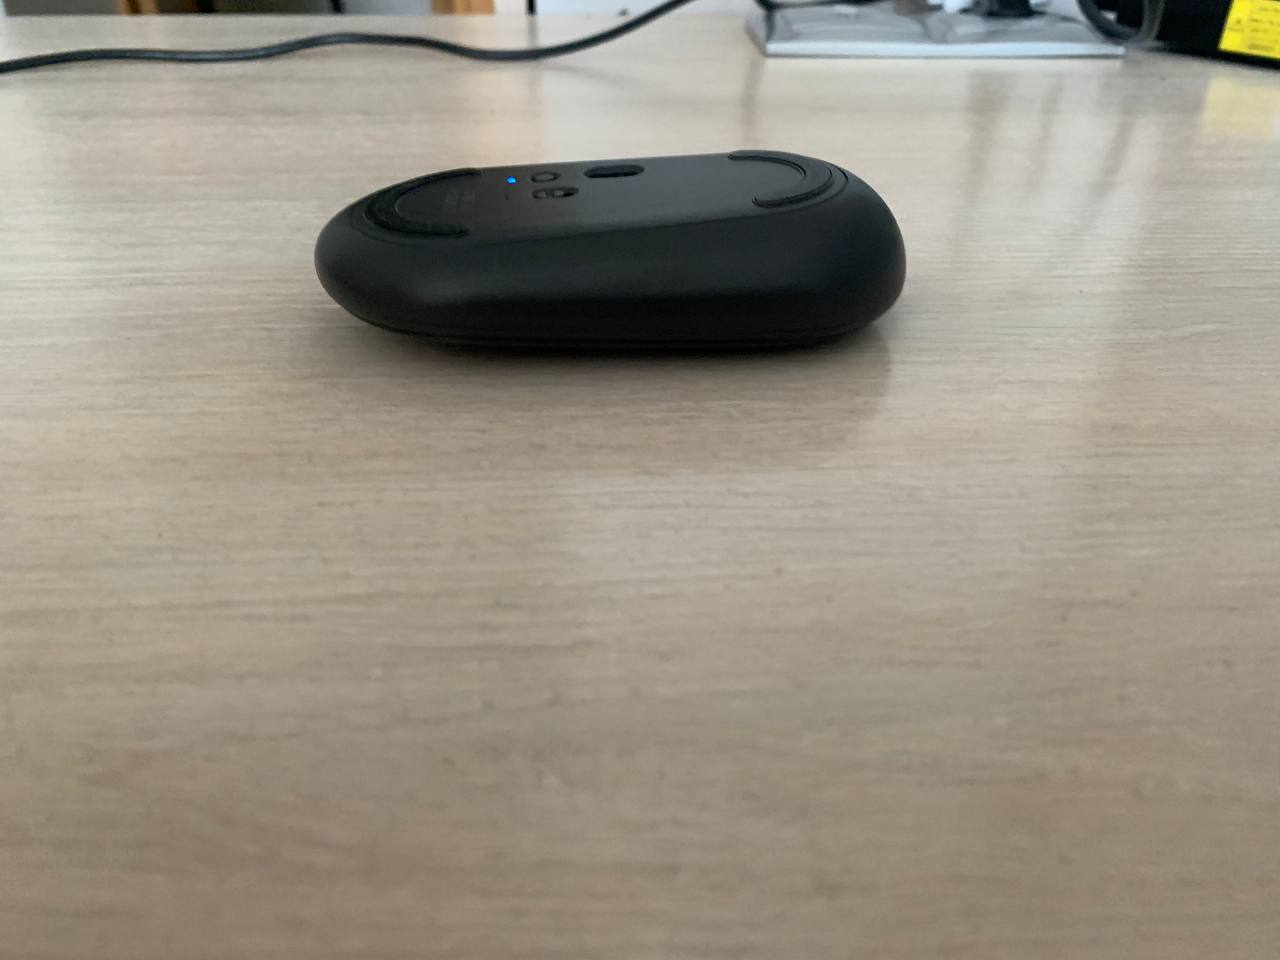mouse: (315, 151, 906, 350)
